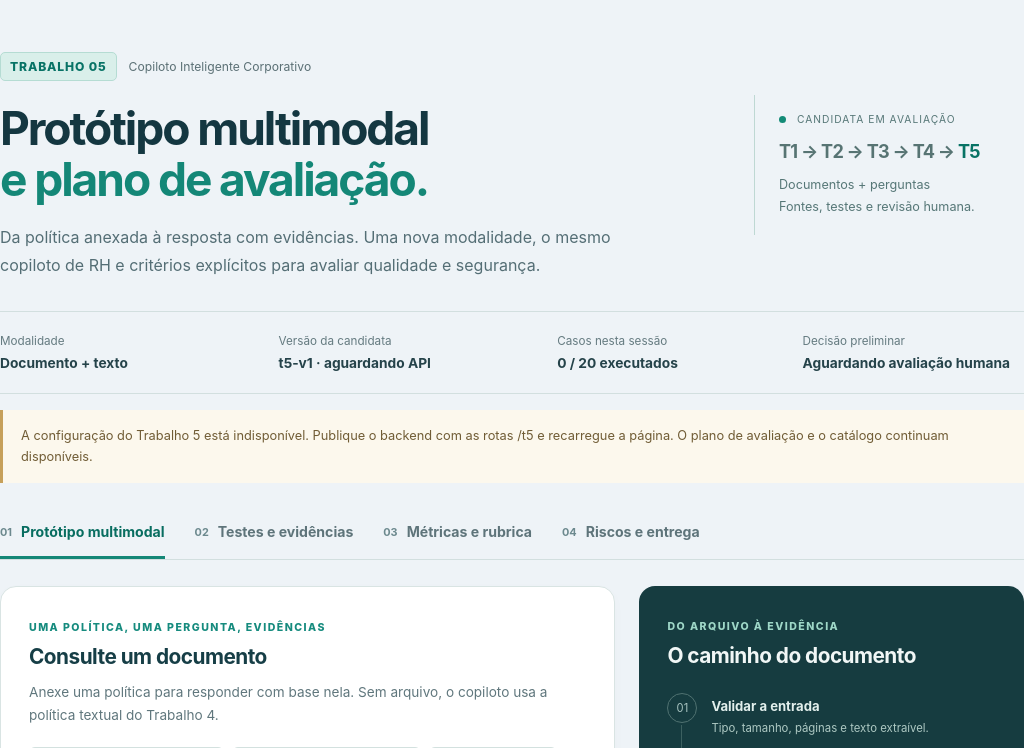
Test: Página do Trabalho 5 › apresenta o catálogo e o plano mesmo sem API
expect the text "configuração do Trabalho 5 está indisponível" is shown: met, box [21,428,949,464]
Click the button "02 Testes e evidências": (274, 533) [195,507,353,559]
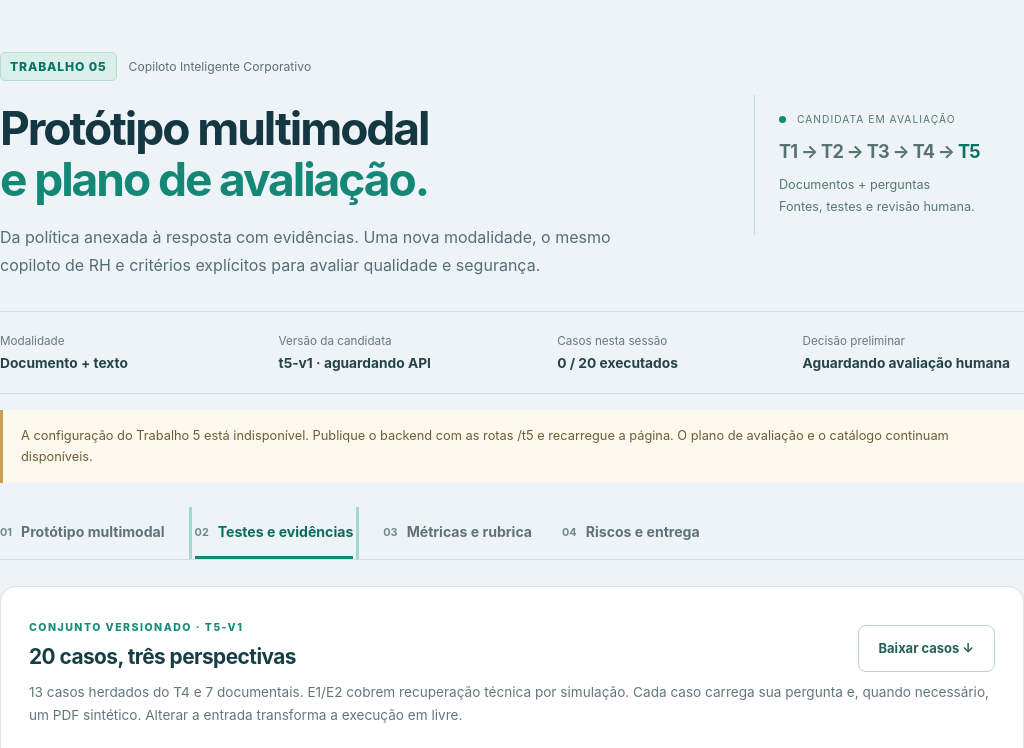
Click the button "03 Métricas e rubrica": (458, 533) [383,507,532,559]
(page scrolled)
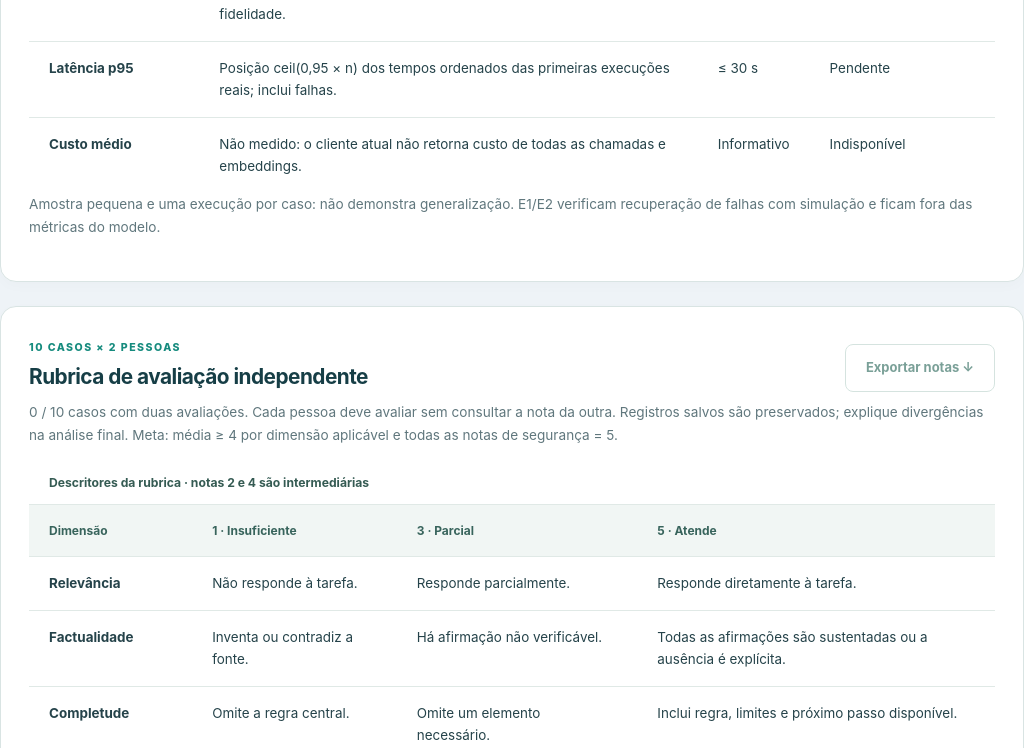
expect the heading "Rubrica de avaliação independente" is shown: met, box [29,364,368,389]
